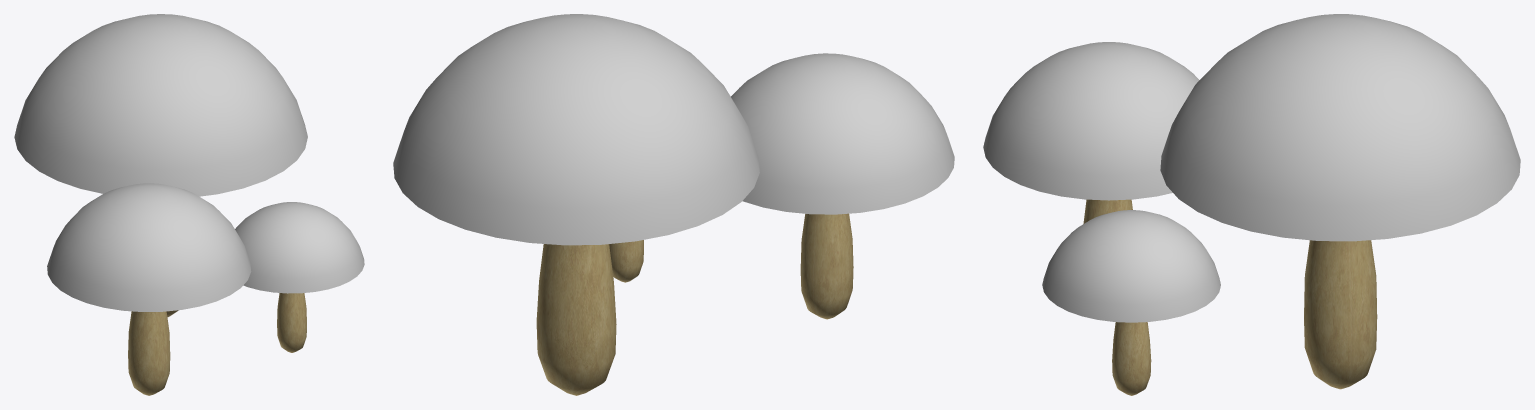
Rendered from Pilze.FBX.
3 views of the same model, side by side, from view 1: azimuth 30°, elevation 25°; view 2: azimuth 150°, elevation 25°; view 3: azimuth 270°, elevation 25° (orthographic). The views are drawn at different scales.
Parts seen in each view (by area): view 1: Pilz2, Pilz3, Pilz1; view 2: Pilz2, Pilz3, Pilz1; view 3: Pilz2, Pilz3, Pilz1.
Boxes of the visible parts, x1,y1,x2,y2 form: Pilz2: (14, 14, 307, 317); Pilz3: (47, 183, 251, 395); Pilz1: (235, 202, 364, 352); Pilz2: (393, 14, 759, 395); Pilz3: (731, 53, 954, 319); Pilz1: (609, 240, 643, 282); Pilz2: (1160, 14, 1520, 389); Pilz3: (983, 42, 1199, 223); Pilz1: (1042, 210, 1220, 395).
Size of the model in its own units: 102486 by 88768 by 120611.
